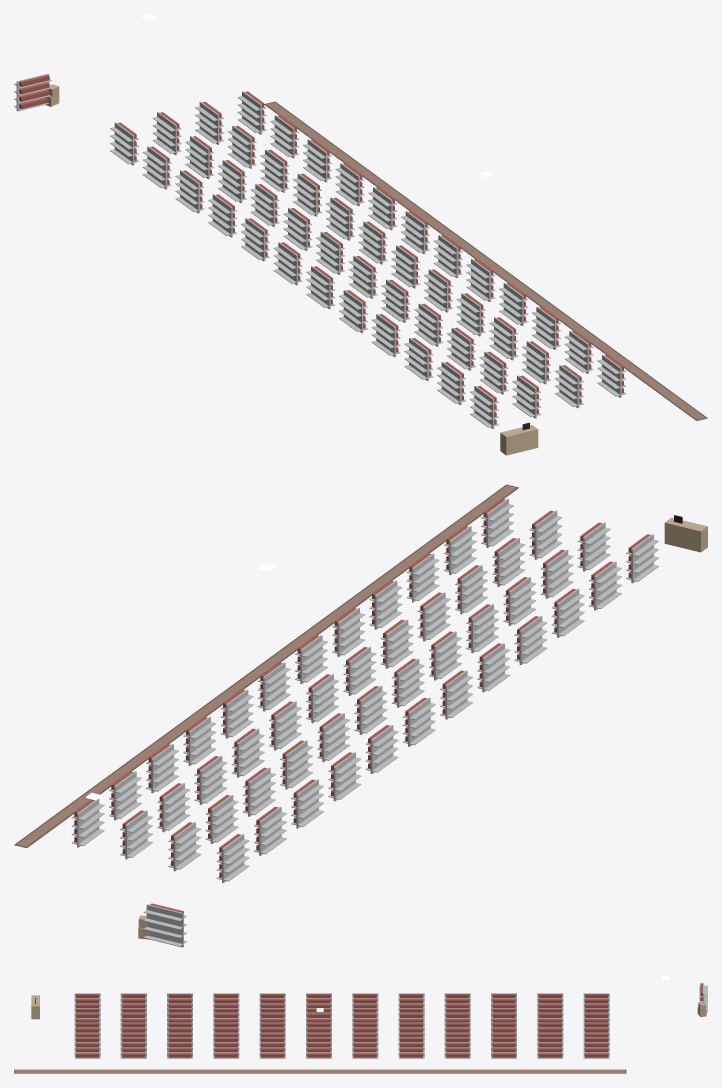
The model's file is fine-s0.glb.
3 views of the same model, one above another, from view 1: azimuth 30°, elevation 25°; view 2: azimuth 150°, elevation 25°; view 3: azimuth 270°, elevation 25° (orthographic). The views are drawn at different scales.
Visible parts, largest first — view 1: soft-s0, shelving.000, shop-counter.000, shelf.001, shelf.029, shelf.019, shelf.020, shelf.026, shelf.012, shelf.018, shelf.035, shelf.036 (+39 smaller); view 2: soft-s0, shelving.000, shop-counter.000, shelf.022, shelf.044, shelf.008, shelf.004, shelf.031, shelf.035, shelf.007, shelf.013, shelf.045 (+39 smaller); view 3: soft-s0, shelf.036, shelf.037, shelf.039, shelf.040, shelf.041, shelf.043, shelf.044, shelf.046, shelf.047, shelf.038, shelf.042 (+39 smaller).
Boxes of the visible parts, box(x1,y1,x2,y2) form: soft-s0: box(264, 101, 707, 420); shelving.000: box(14, 73, 51, 111); shop-counter.000: box(500, 422, 538, 455); shelf.001: box(142, 146, 171, 189); shelf.029: box(358, 221, 387, 264); shelf.019: box(381, 279, 410, 322); shelf.020: box(414, 303, 443, 346); shelf.026: box(260, 149, 289, 192); shelf.012: box(152, 112, 181, 155); shelf.018: box(348, 255, 377, 298); shelf.035: box(554, 365, 583, 408); shelf.036: box(237, 91, 266, 134); soft-s0: box(14, 484, 518, 848); shelving.000: box(143, 903, 186, 947); shop-counter.000: box(664, 515, 707, 552); shelf.022: box(540, 549, 573, 598); shelf.044: box(369, 580, 402, 629); shelf.008: box(514, 616, 547, 664); shelf.004: box(365, 725, 398, 774); shelf.031: box(380, 619, 413, 668); shelf.035: box(529, 510, 562, 559); shelf.007: box(477, 643, 510, 692); shelf.013: box(205, 795, 238, 843); shelf.045: box(406, 553, 439, 602); soft-s0: box(14, 1069, 626, 1073); shelf.036: box(583, 1037, 609, 1058); shelf.037: box(537, 1037, 563, 1058); shelf.039: box(444, 1037, 470, 1058); shelf.040: box(398, 1037, 424, 1058); shelf.041: box(352, 1037, 378, 1058); shelf.043: box(259, 1037, 285, 1058); shelf.044: box(213, 1037, 239, 1058); shelf.046: box(120, 1037, 146, 1058); shelf.047: box(74, 1037, 100, 1058); shelf.038: box(491, 1037, 516, 1058); shelf.042: box(306, 1037, 331, 1058).
Bounding box in the file's own units: 11.5 × 4.73 × 47.99.
